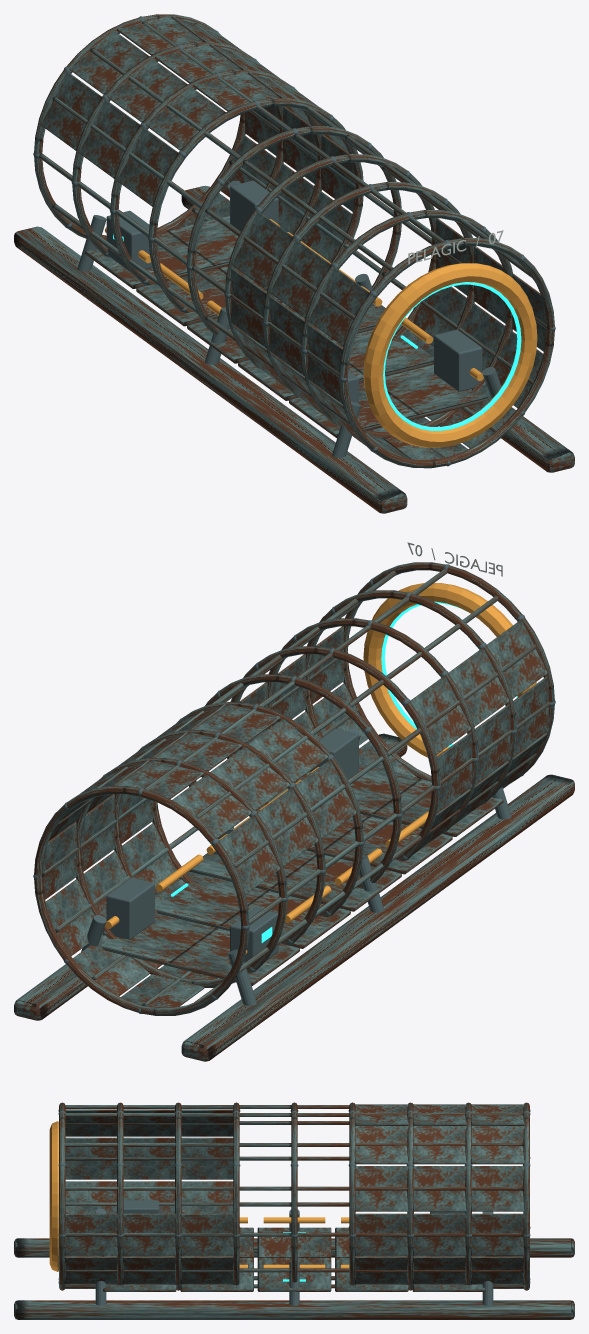
Rendered from habitat.glb.
3 views of the same model, one above another, from view 1: azimuth 30°, elevation 25°; view 2: azimuth 150°, elevation 25°; view 3: azimuth 270°, elevation 25° (orthographic). The views are drawn at different scales.
Parts seen in each view (by area): view 1: habitat_Hull, habitat_Safety ochre, habitat_Titanium, habitat_Bio; view 2: habitat_Hull, habitat_Titanium, habitat_Safety ochre, habitat_Bio; view 3: habitat_Hull, habitat_Titanium, habitat_Safety ochre.
Boxes of the visible parts, x1,y1,x2,y2 form: habitat_Hull: (14, 14, 574, 513); habitat_Safety ochre: (105, 219, 537, 447); habitat_Titanium: (33, 16, 555, 466); habitat_Bio: (113, 234, 521, 430); habitat_Hull: (14, 562, 574, 1061); habitat_Titanium: (33, 564, 555, 1013); habitat_Safety ochre: (105, 583, 536, 954); habitat_Bio: (171, 601, 517, 942); habitat_Hull: (14, 1102, 574, 1319); habitat_Titanium: (58, 1109, 530, 1305); habitat_Safety ochre: (49, 1121, 349, 1271).
Size of the model in its own units: 9.76 by 10.13 by 29.
5 materials, 1 textured.
